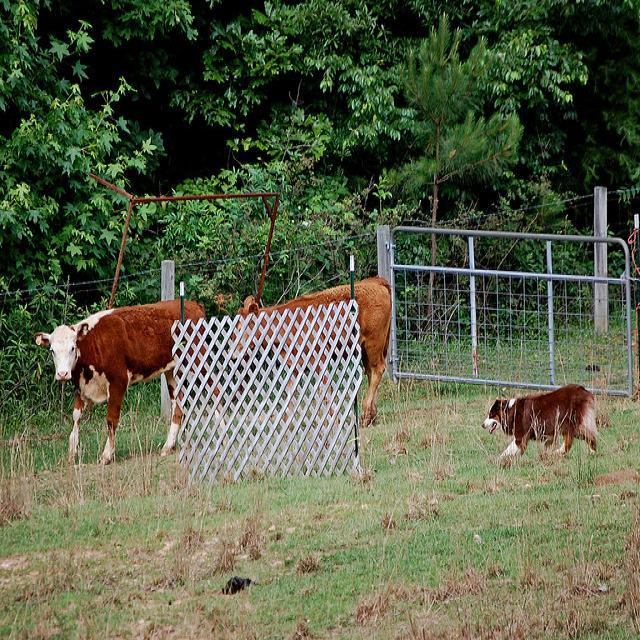cow: (234, 275, 393, 456), (35, 297, 205, 465), (358, 388, 368, 427)
